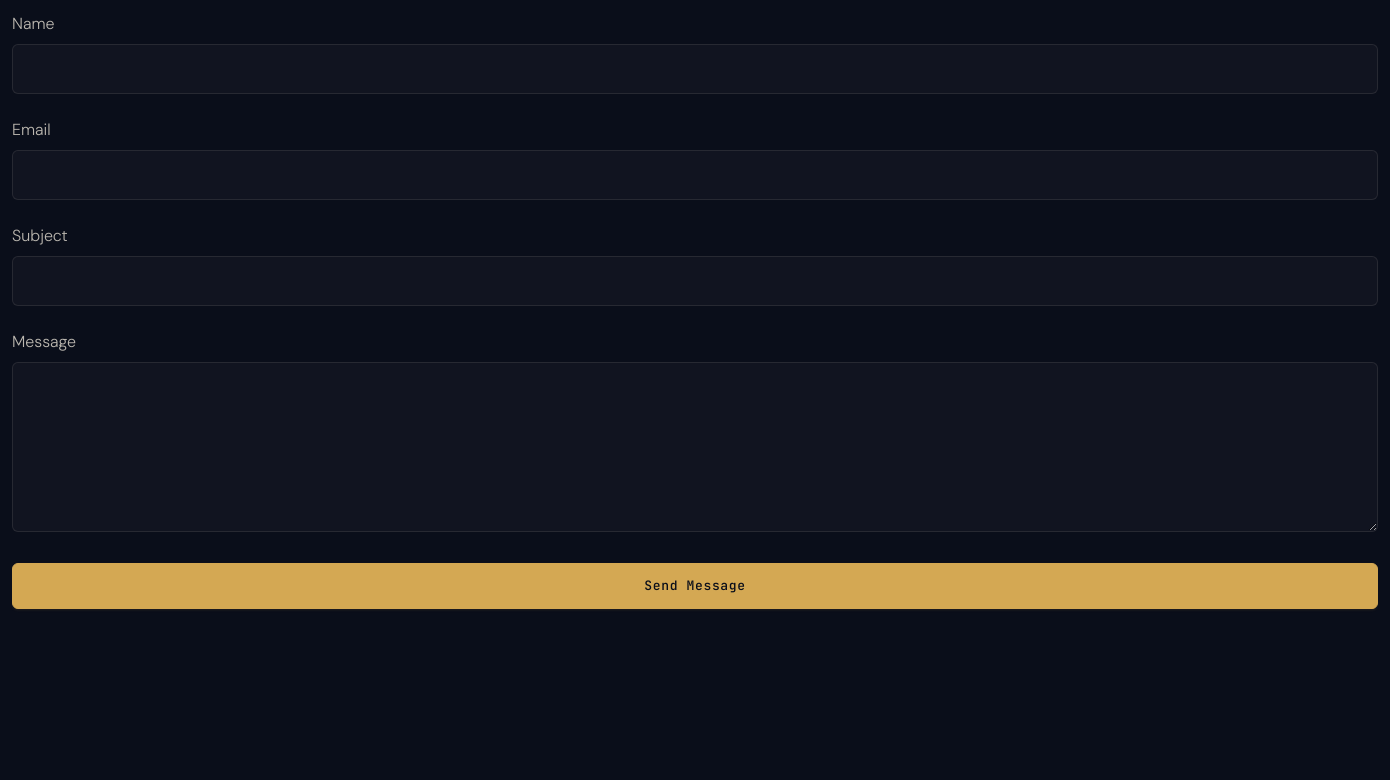
Test: ContactForm Component - Functionality Tests › Form Submission › should show success message after successful submission
# Fill out the form
Type "John Doe" into the field labelled "Name" at (695, 69), box [12,44,1378,94]
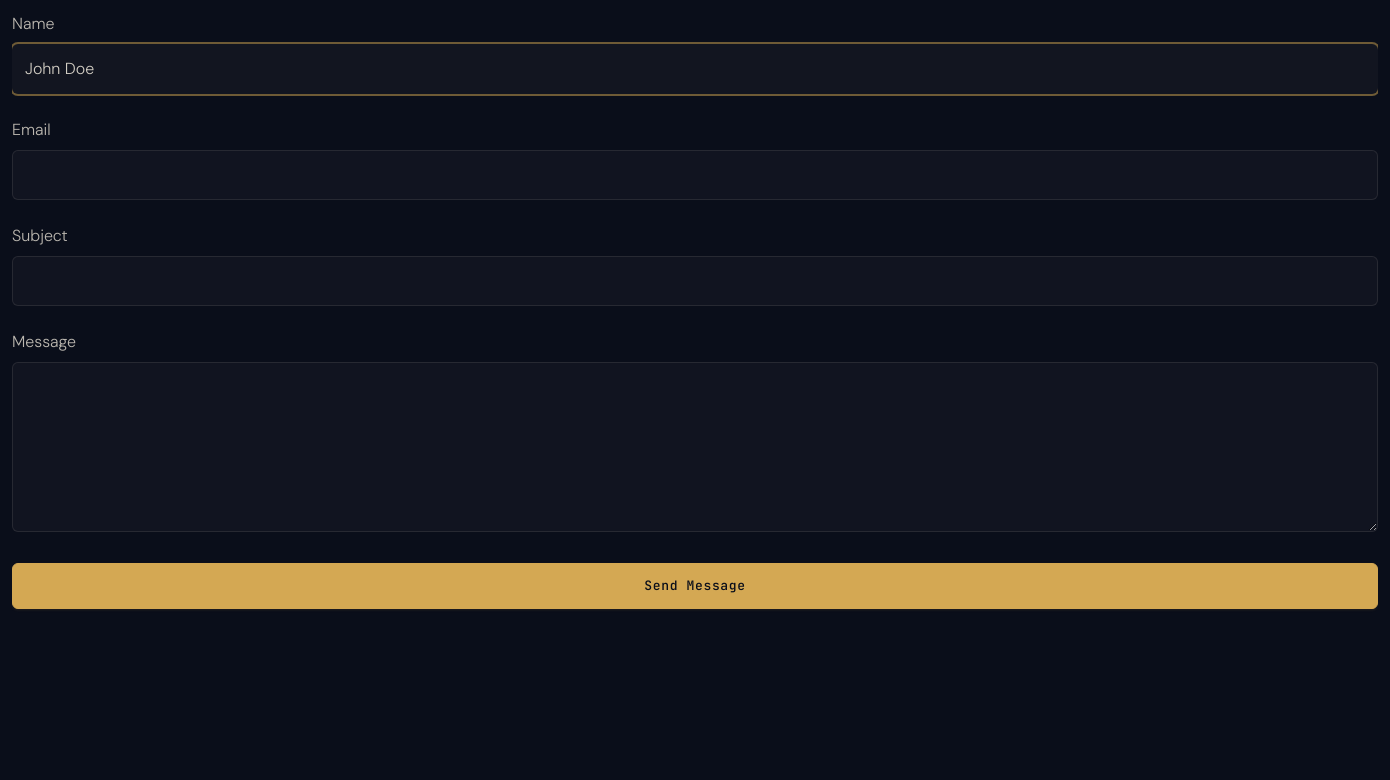
Type "john@example.com" into the field labelled "Email" at (695, 175), box [12,150,1378,200]
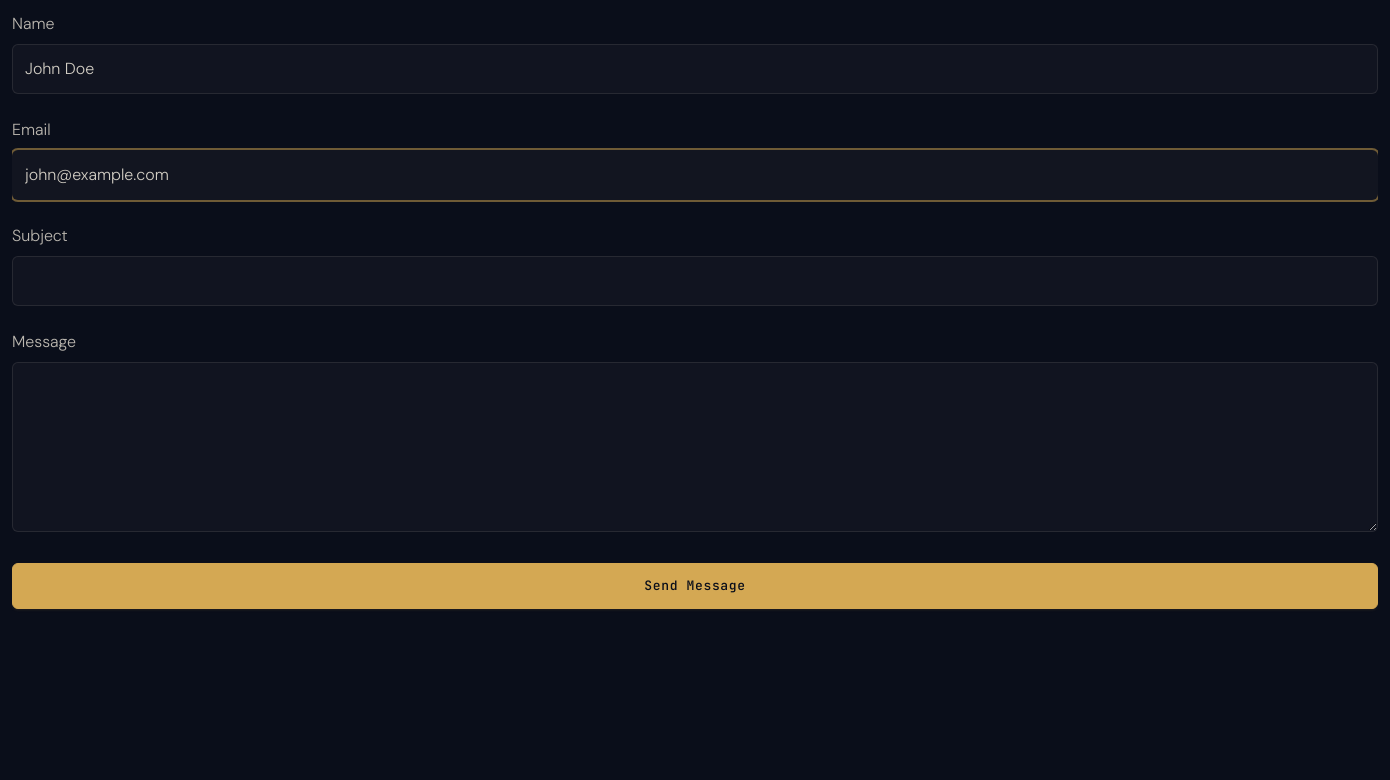
Type "General Inquiry" into the field labelled "Subject" at (695, 281), box [12,256,1378,306]
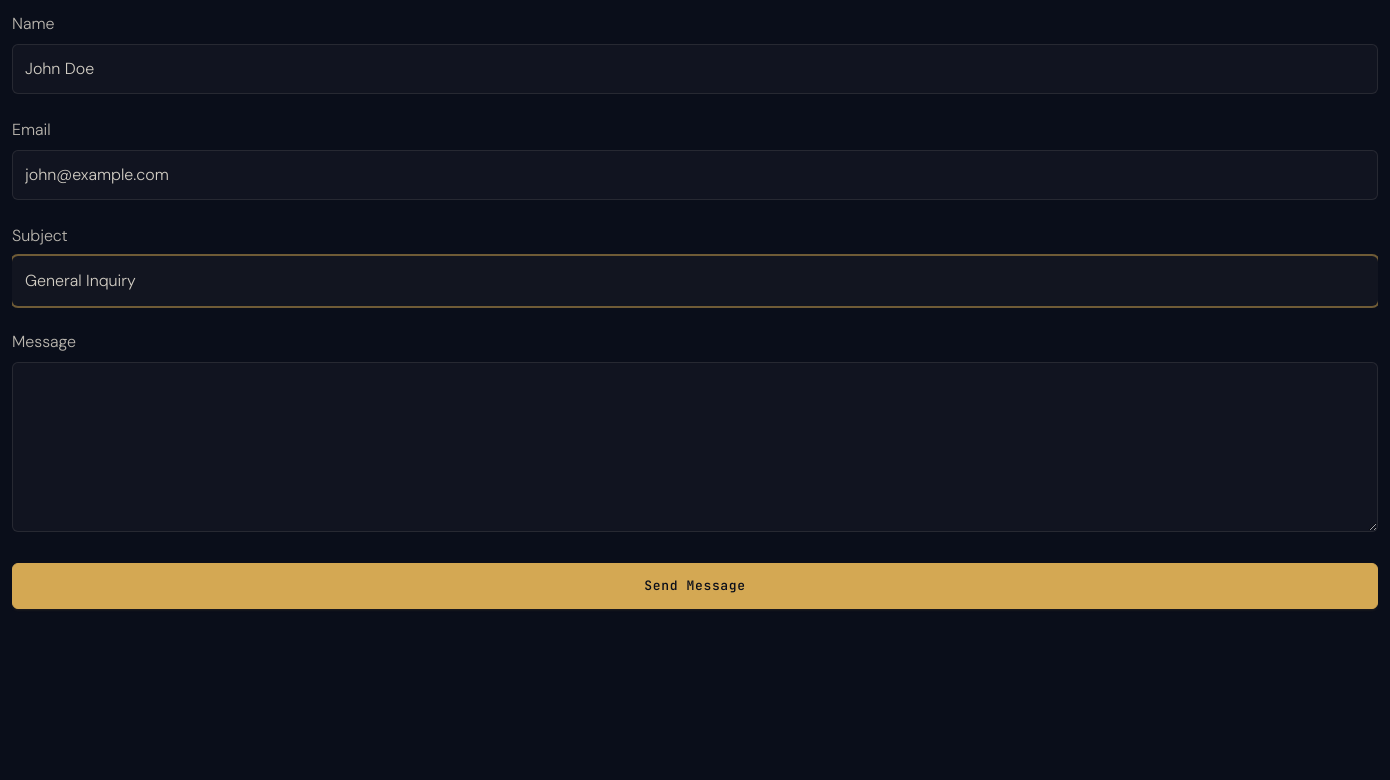
Type "Test message" into the text box labelled "Message" at (695, 447), box [12,362,1378,532]
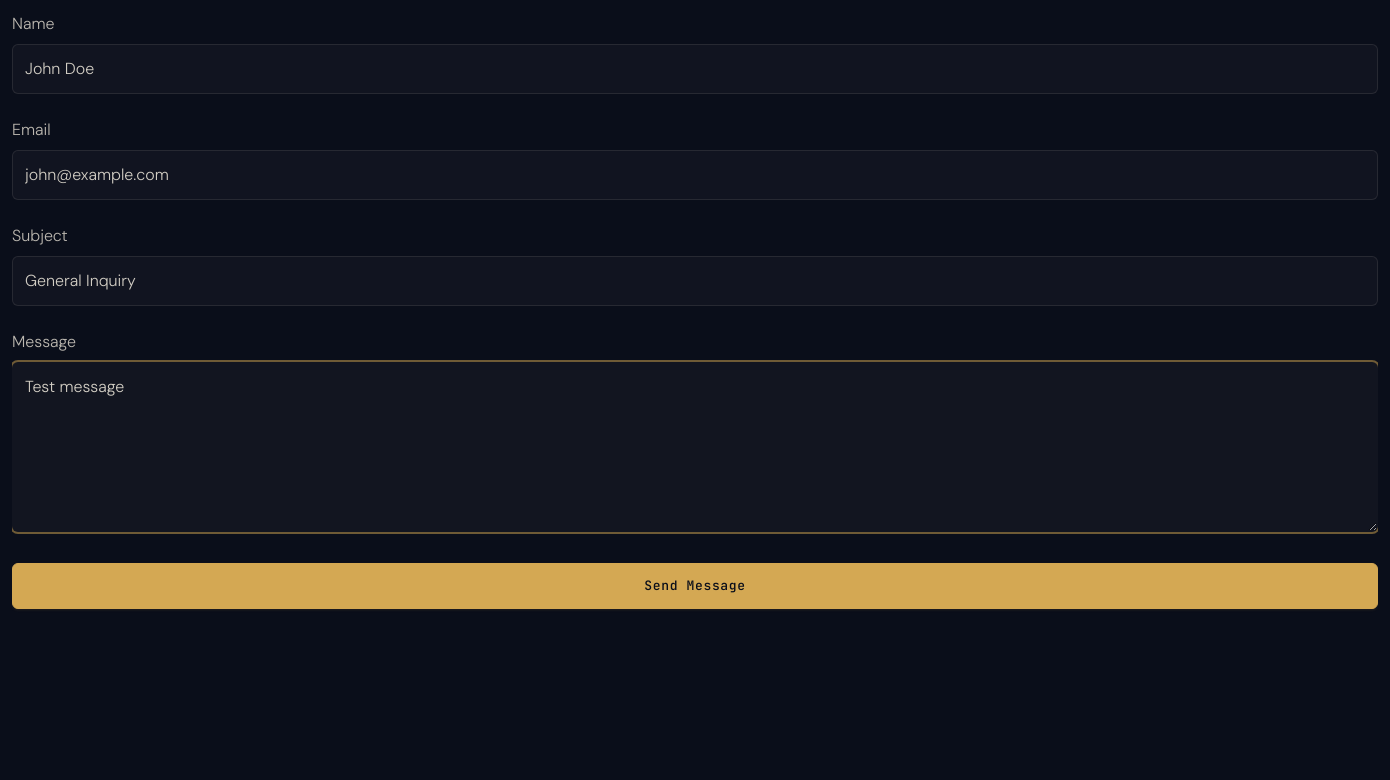
Click the button "Send Message" at (695, 586), box [12,563,1378,608]
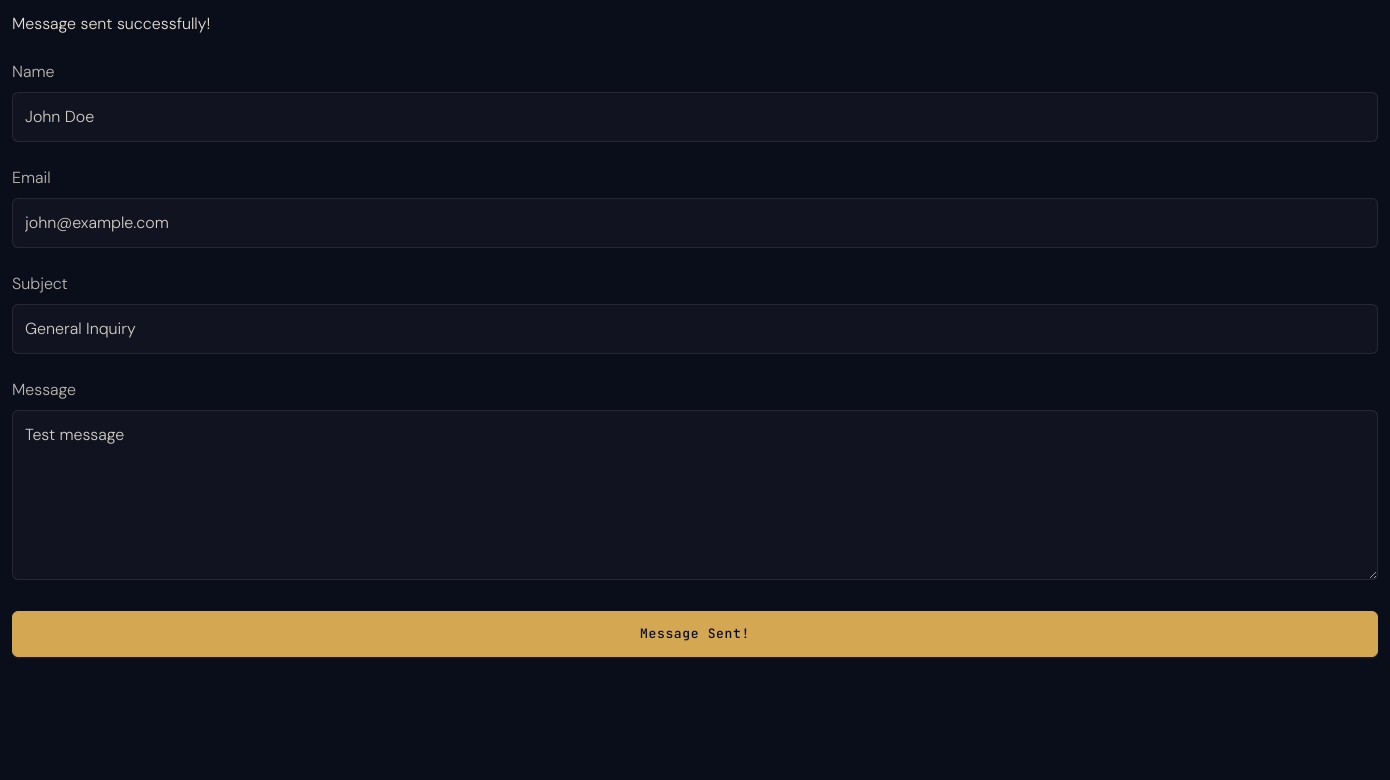
Expected: the text "Message sent successfully!" is shown, [12,13,210,34]
